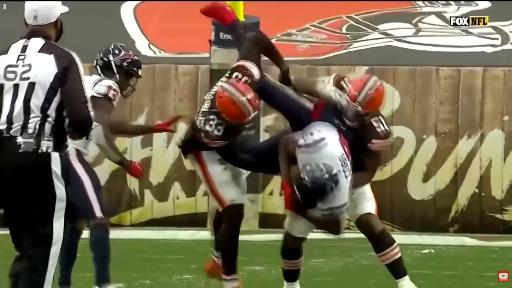Helmet: (94, 43, 141, 97), (336, 75, 385, 124), (292, 163, 339, 209), (216, 79, 259, 123)
Jersey: (180, 60, 261, 154), (312, 100, 392, 171), (296, 122, 352, 217), (84, 75, 120, 105)
Player: (257, 75, 415, 287), (180, 3, 289, 287), (59, 44, 179, 287), (294, 75, 416, 287), (279, 122, 352, 287)
